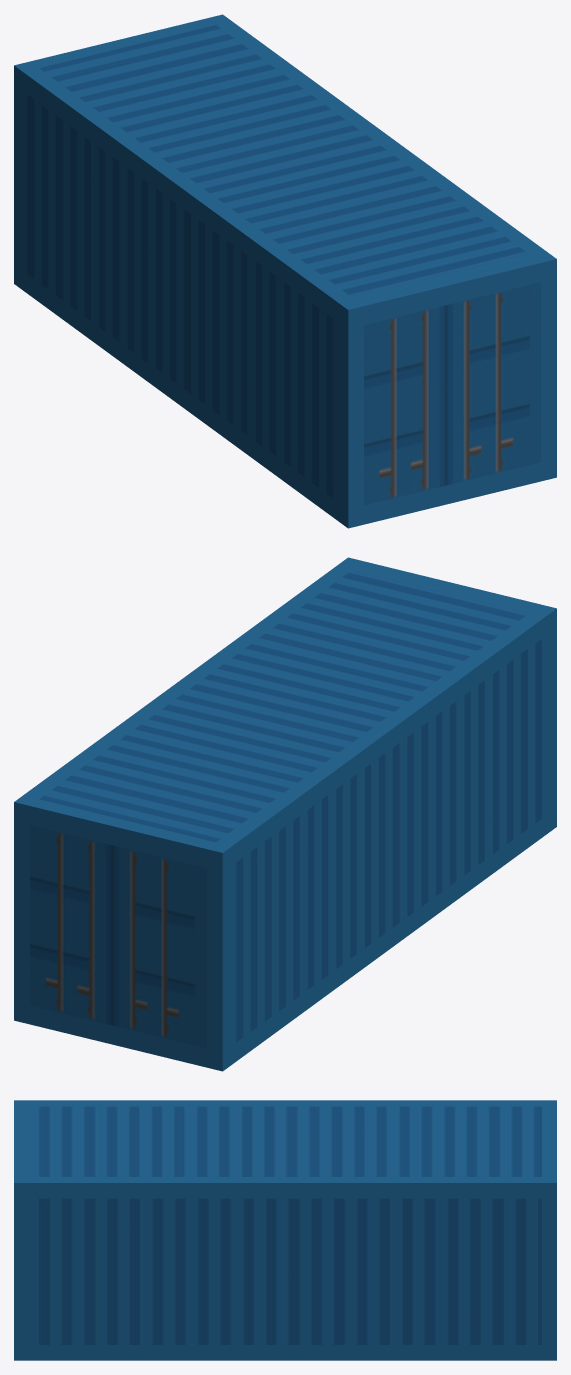
Rendered from Container001.fbx.
3 views of the same model, one above another, from view 1: azimuth 30°, elevation 25°; view 2: azimuth 150°, elevation 25°; view 3: azimuth 270°, elevation 25° (orthographic). The views are drawn at different scales.
Visible parts, largest first — view 1: Container001; view 2: Container001; view 3: Container001.
Part boxes in pixels (x1=…): Container001: x1=14, y1=14, x2=556, y2=528; Container001: x1=14, y1=557, x2=556, y2=1071; Container001: x1=14, y1=1100, x2=556, y2=1360.
Bounding box in the file's own units: 227 × 227 × 629.
